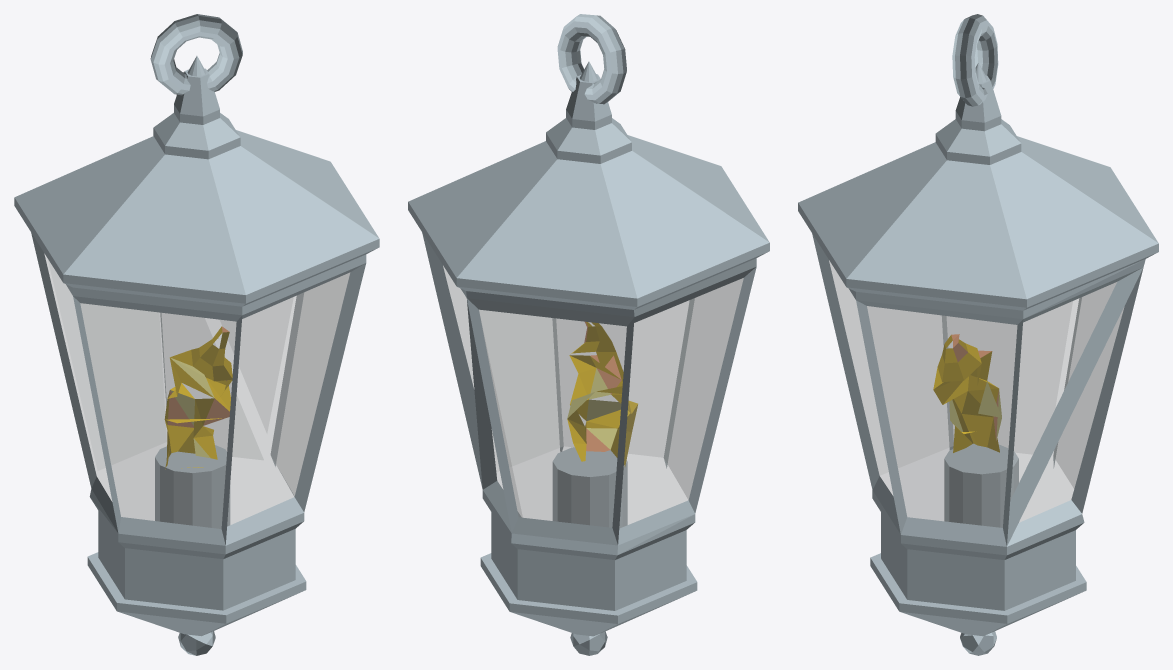
Rendered from lantern.glb.
3 renders of one model, left to right at view 1: azimuth 30°, elevation 25°; view 2: azimuth 150°, elevation 25°; view 3: azimuth 270°, elevation 25°, orthographic.
Visible parts, largest first — view 1: Node; view 2: Node; view 3: Node.
Boxes of the visible parts, x1=… form: Node: x1=14, y1=14, x2=379, y2=655; Node: x1=408, y1=14, x2=769, y2=655; Node: x1=798, y1=14, x2=1158, y2=655.
Size of the model in its own units: 0.3867 by 0.751 by 0.3867.
